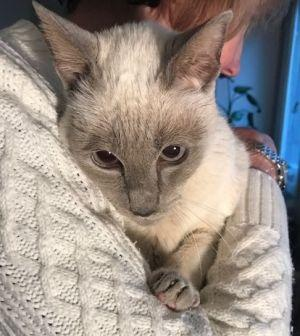siamese: (26, 1, 247, 222)
